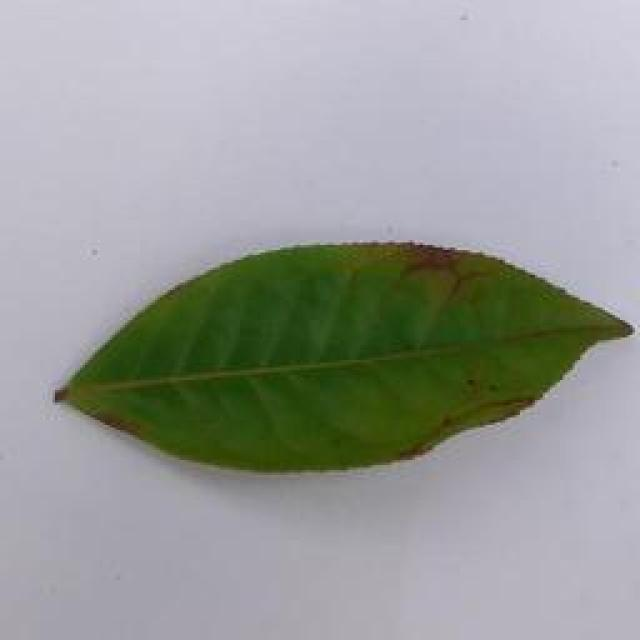Red Leaf Spot: (22, 245, 640, 468)
